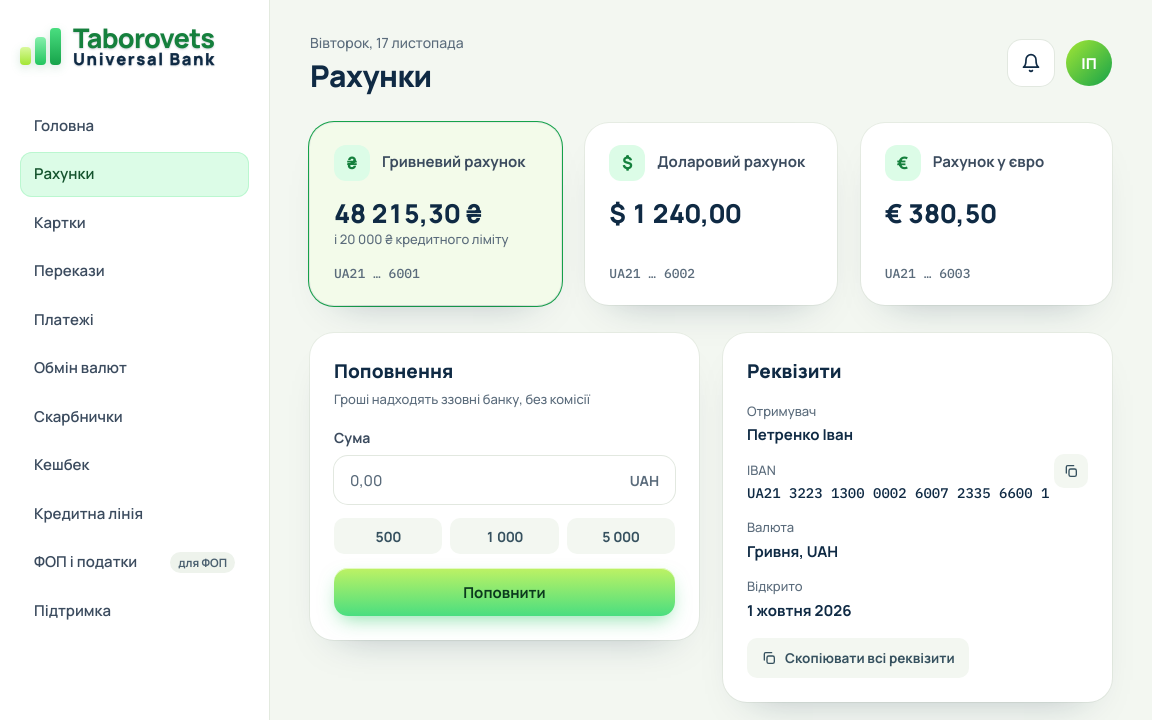
AccountsPage › tops up once even when the answer is lost and the client presses the button again
In the field labelled "Сума": {"x": 504, "y": 480} [334,456,675,504], type "1 500,50"
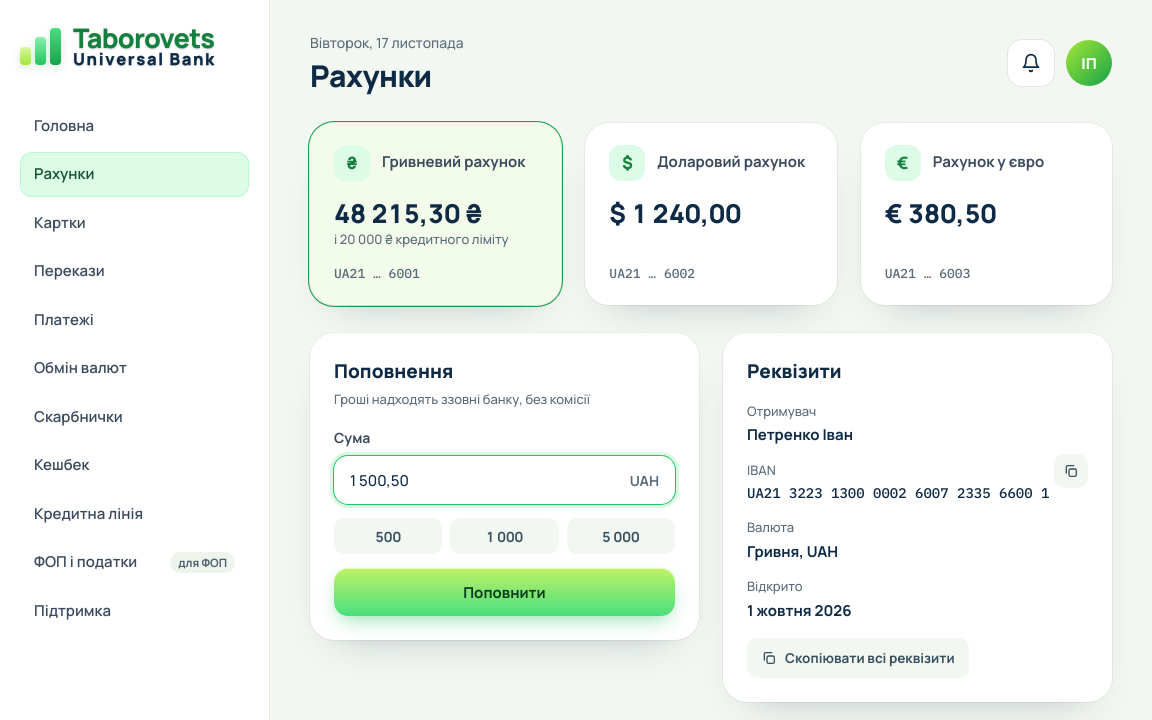
Click the button "Поповнити": {"x": 504, "y": 592} [334,568,675,616]
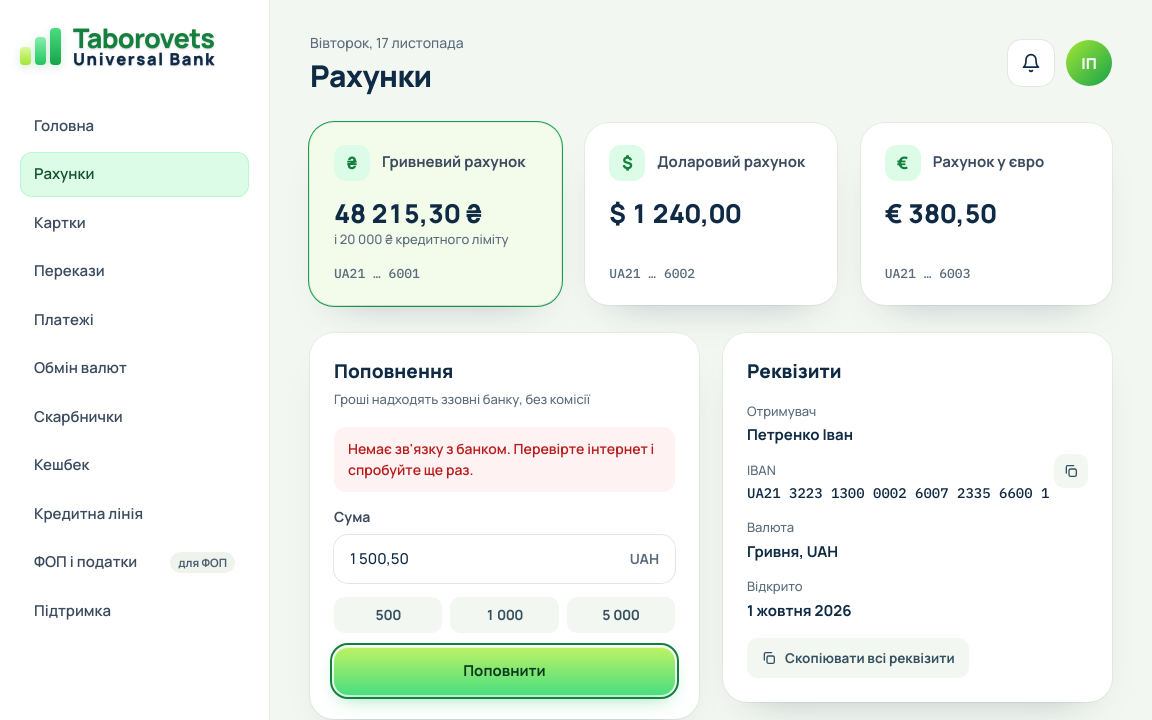
Expected: the text "Немає зв'язку з банком. Перевірте інтернет і спробуйте ще раз." is shown, [334,427,675,492]
Click the button "Поповнити": {"x": 504, "y": 671} [334,647,675,695]
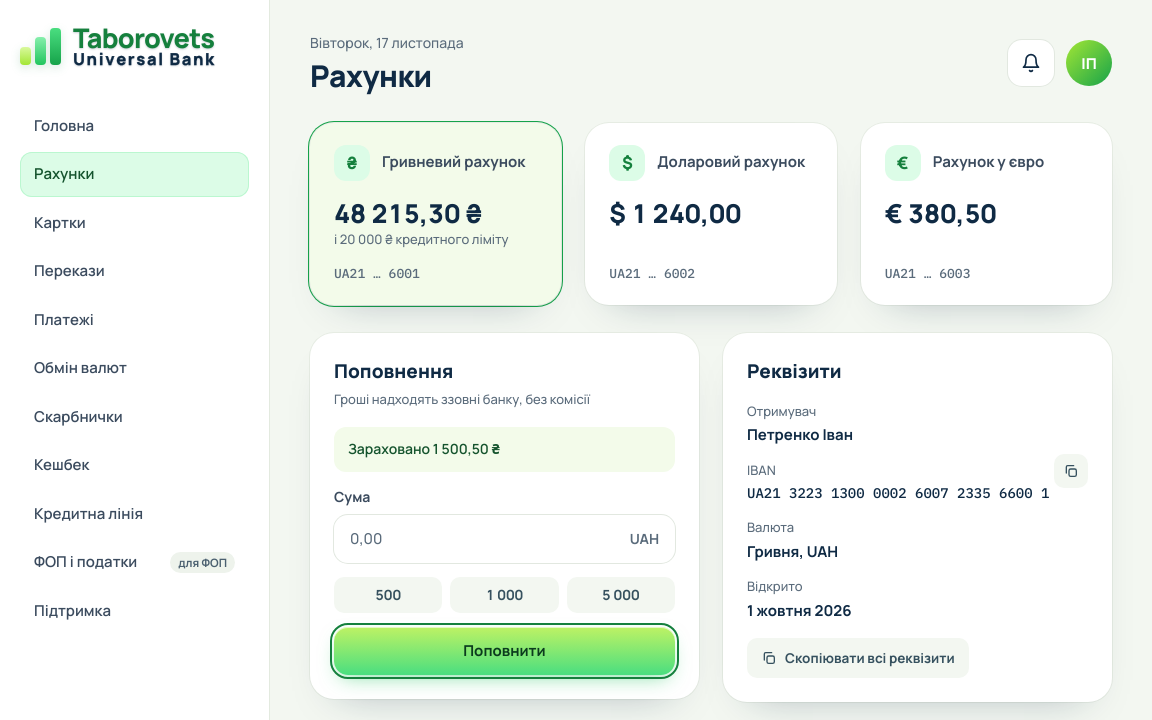
Expected: the text "Зараховано 1 500,50 ₴" is shown, [334,427,675,472]
